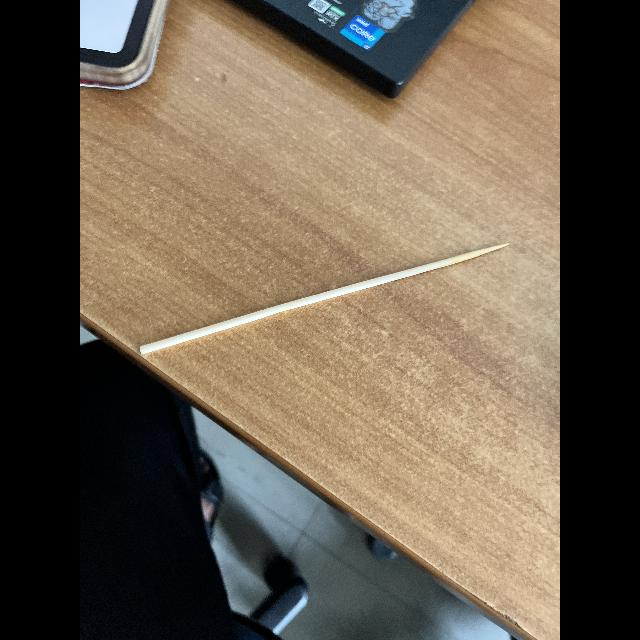stick: (130, 226, 522, 378)
